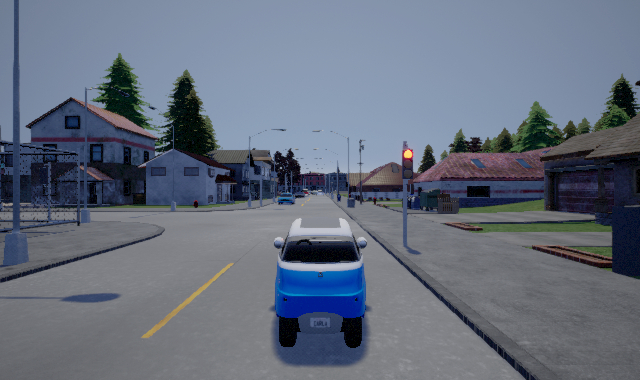traffic_light: (401, 147, 413, 179)
vehicle: (273, 217, 367, 348), (277, 190, 295, 205)
